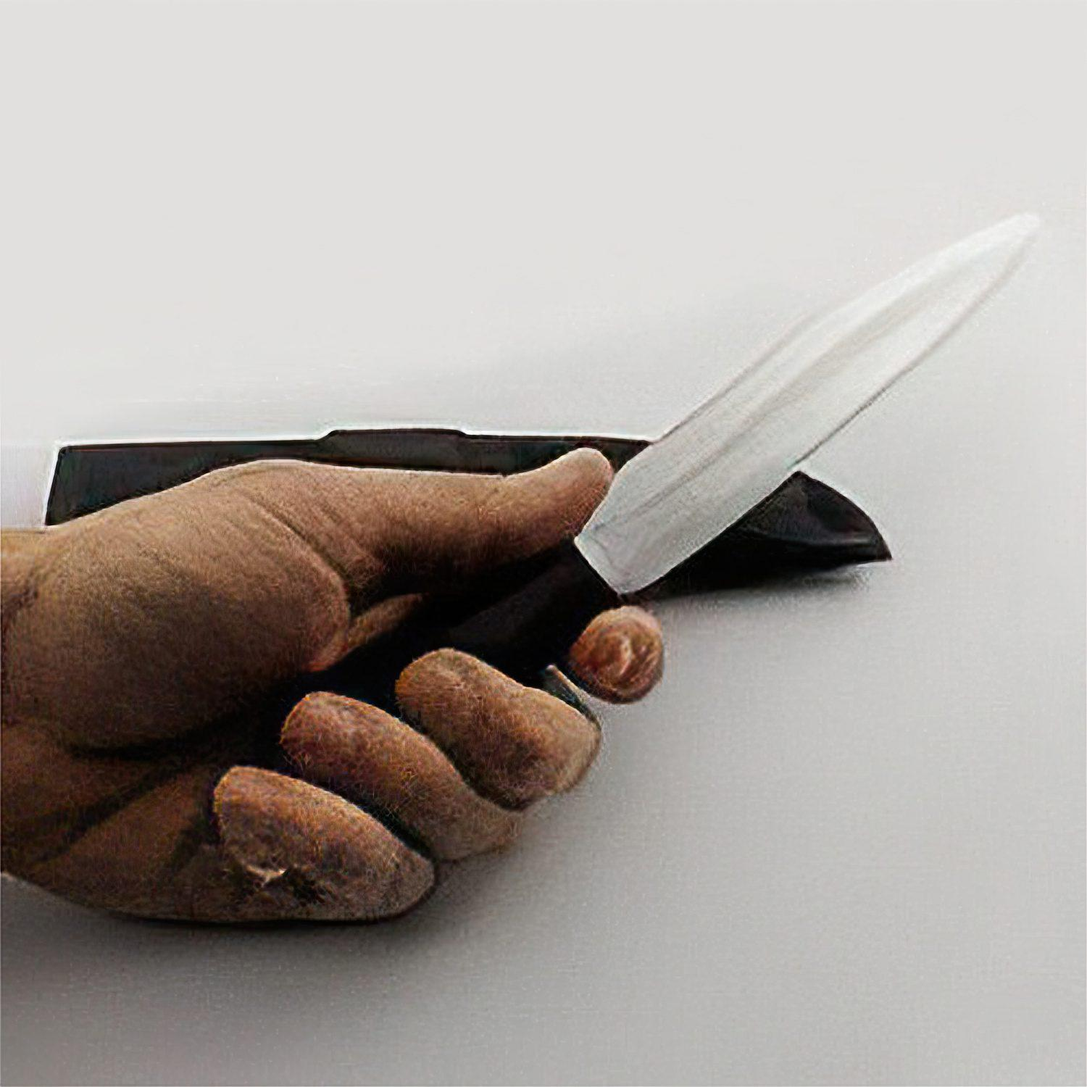Knife: (0, 449, 662, 922), (16, 448, 649, 925), (533, 207, 1058, 630)
